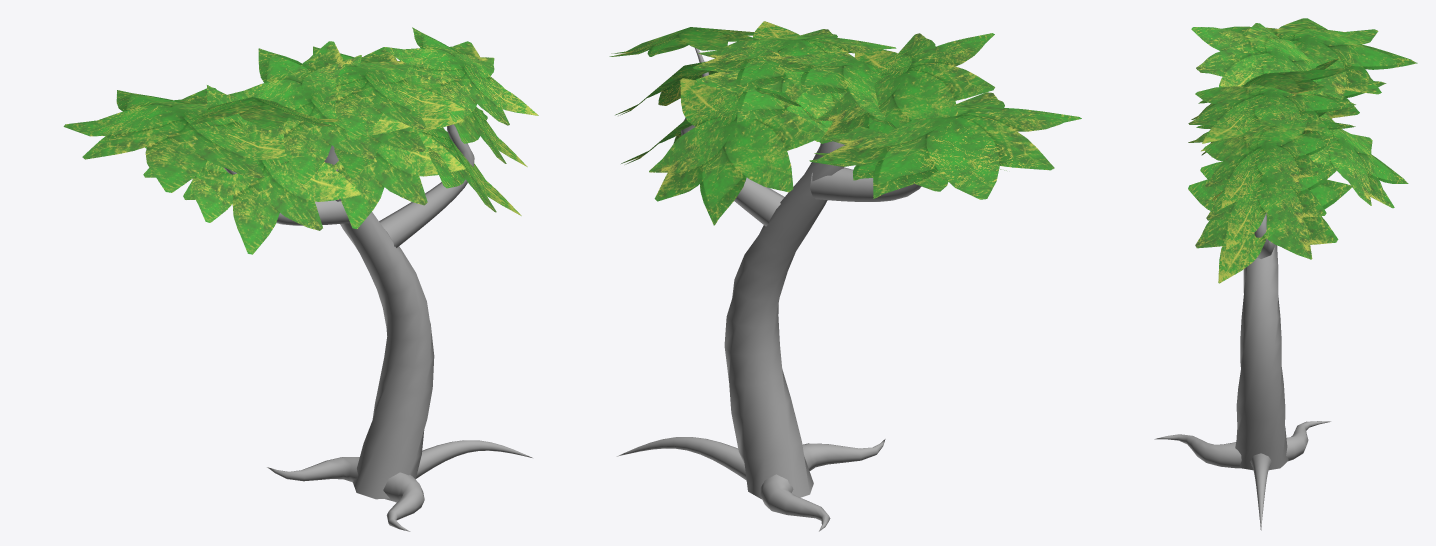
3 renders of one model, left to right at view 1: azimuth 30°, elevation 25°; view 2: azimuth 150°, elevation 25°; view 3: azimuth 270°, elevation 25°, orthographic. The views are drawn at different scales.
Parts seen in each view (by area): view 1: Leafs1; view 2: Leafs1; view 3: Leafs1.
Boxes of the visible parts, box(x1,y1,x2,y2) form: Leafs1: box(63, 27, 538, 531); Leafs1: box(609, 21, 1081, 531); Leafs1: box(1154, 18, 1417, 530).
Size of the model in its own units: 63.1 by 62.48 by 39.44.
